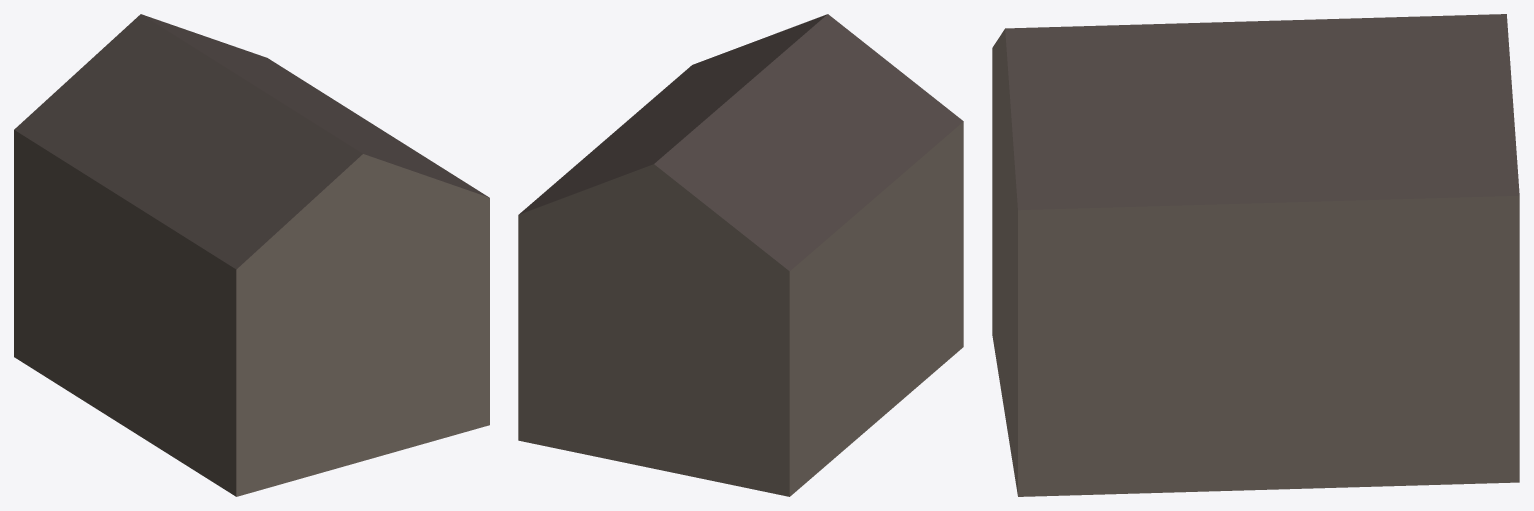
3 views of the same model, side by side, from view 1: azimuth 30°, elevation 25°; view 2: azimuth 150°, elevation 25°; view 3: azimuth 270°, elevation 25° (orthographic). The views are drawn at different scales.
Visible parts, largest first — view 1: HP-w1424106456; view 2: HP-w1424106456; view 3: HP-w1424106456.
Boxes of the visible parts, x1,y1,x2,y2 form: HP-w1424106456: (14,14,489,496); HP-w1424106456: (518,14,963,496); HP-w1424106456: (992,14,1519,496).
Size of the model in its own units: 7.93 by 8.11 by 10.
